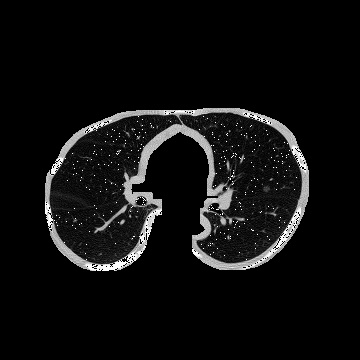PN: (263, 186, 269, 192)
